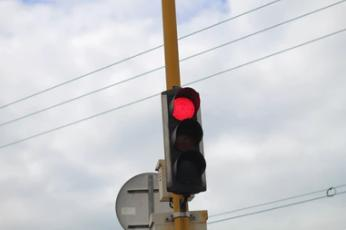red_light: (161, 87, 206, 194)
